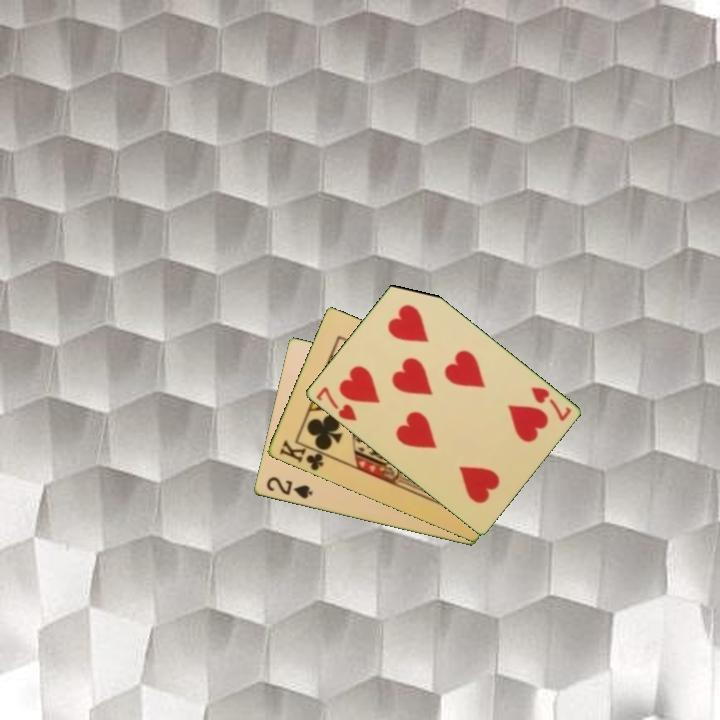2s: (262, 473, 315, 502)
7h: (312, 383, 360, 424), (527, 383, 574, 424)
Kc: (275, 436, 332, 474)
